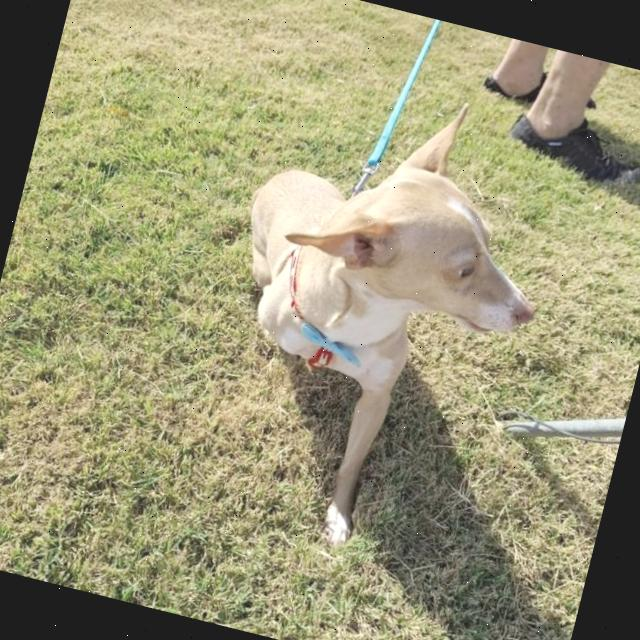chihuahua_dog: (259, 60, 592, 372)
